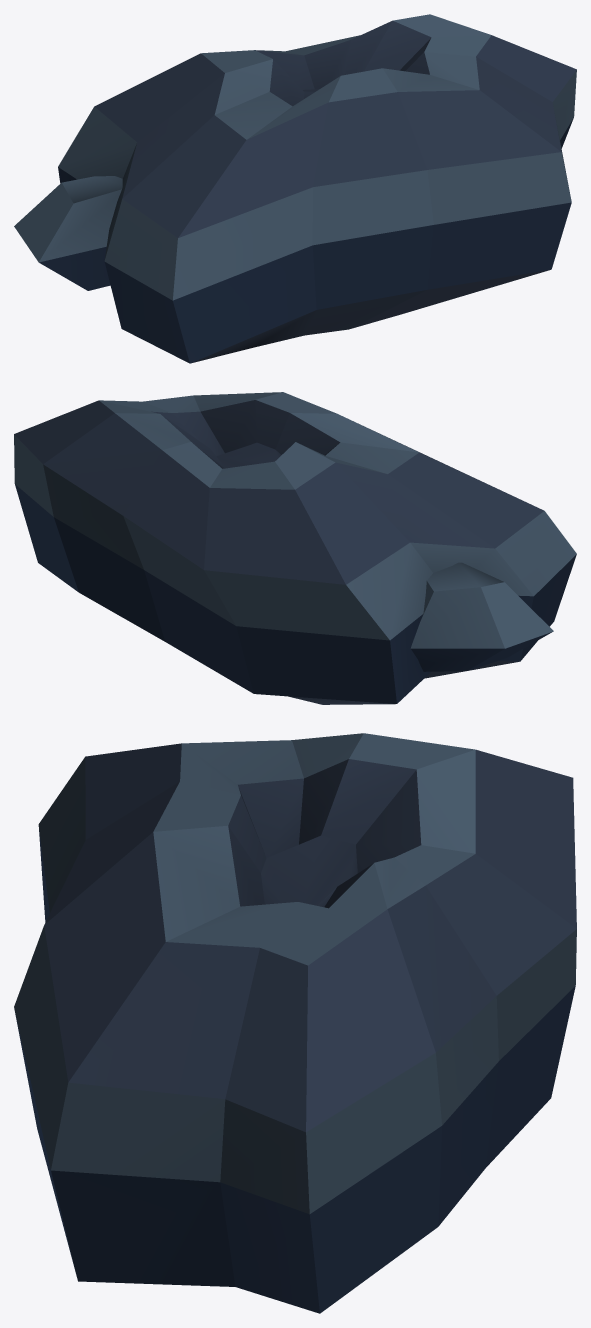
The model's file is belt-fragment.glb.
3 views of the same model, one above another, from view 1: azimuth 30°, elevation 25°; view 2: azimuth 150°, elevation 25°; view 3: azimuth 270°, elevation 25° (orthographic). The views are drawn at different scales.
Visible parts, largest first — view 1: belt-fragment; view 2: belt-fragment; view 3: belt-fragment.
Part boxes in pixels (<box>): belt-fragment: <box>14,14,576,363</box>; belt-fragment: <box>14,392,576,704</box>; belt-fragment: <box>14,733,576,1313</box>.
Size of the model in its own units: 2.57 by 1.12 by 1.34.
